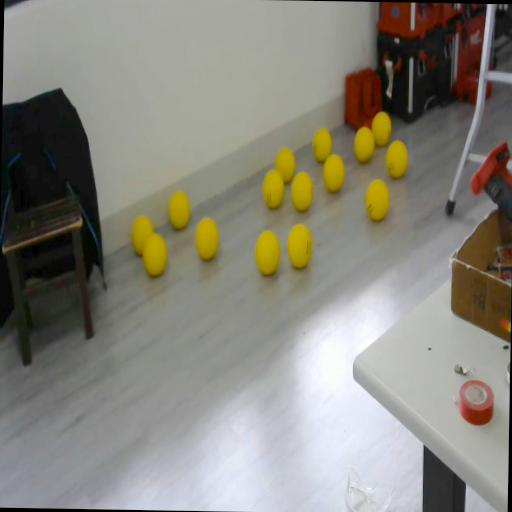FUEL: (141, 231, 168, 277), (286, 223, 312, 270), (254, 230, 280, 276), (194, 215, 220, 260), (364, 178, 390, 222), (290, 170, 314, 212), (322, 153, 346, 193), (262, 168, 284, 209), (168, 190, 190, 230), (385, 140, 408, 178), (274, 146, 296, 184), (353, 126, 375, 163), (312, 126, 332, 162), (372, 111, 392, 145)
